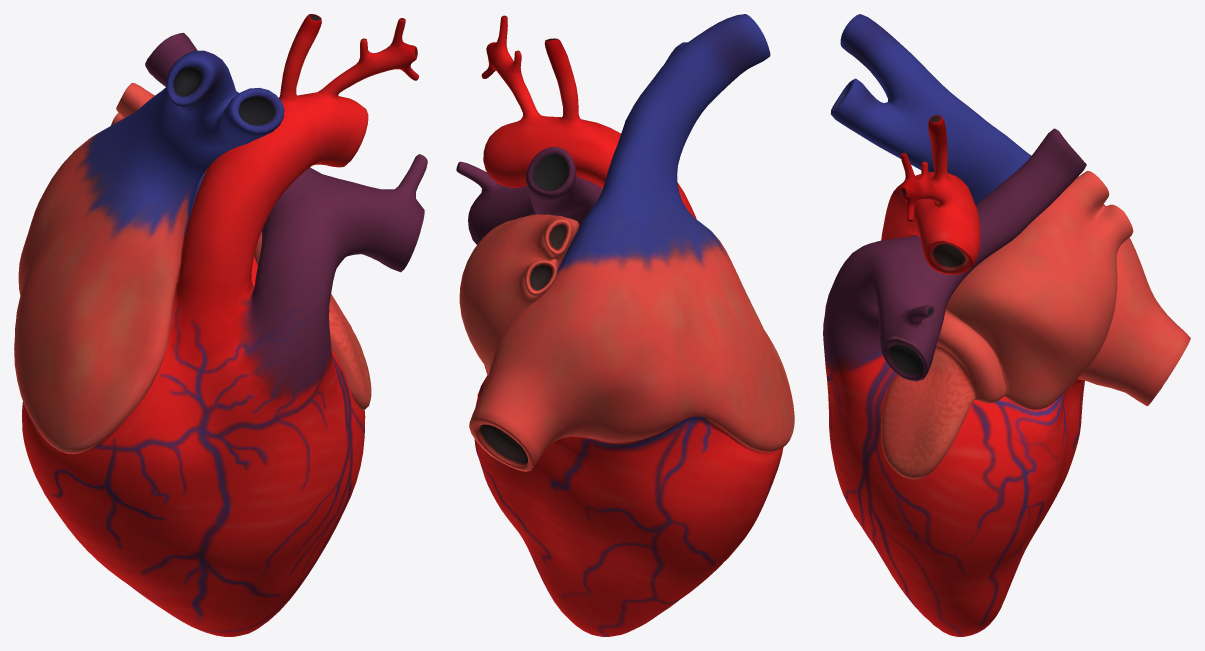
Rendered from heart.glb.
3 views of the same model, side by side, from view 1: azimuth 30°, elevation 25°; view 2: azimuth 150°, elevation 25°; view 3: azimuth 270°, elevation 25° (orthographic). The views are drawn at different scales.
Visible parts, largest first — view 1: human_heart.1; view 2: human_heart.1; view 3: human_heart.1.
Boxes of the visible parts, box(x1,y1,x2,y2) form: human_heart.1: box(14, 14, 427, 636); human_heart.1: box(456, 14, 794, 636); human_heart.1: box(823, 14, 1190, 636).
Size of the model in its own units: 0.1475 by 0.247 by 0.1433.
Materials: 1 (1 with a texture image).
